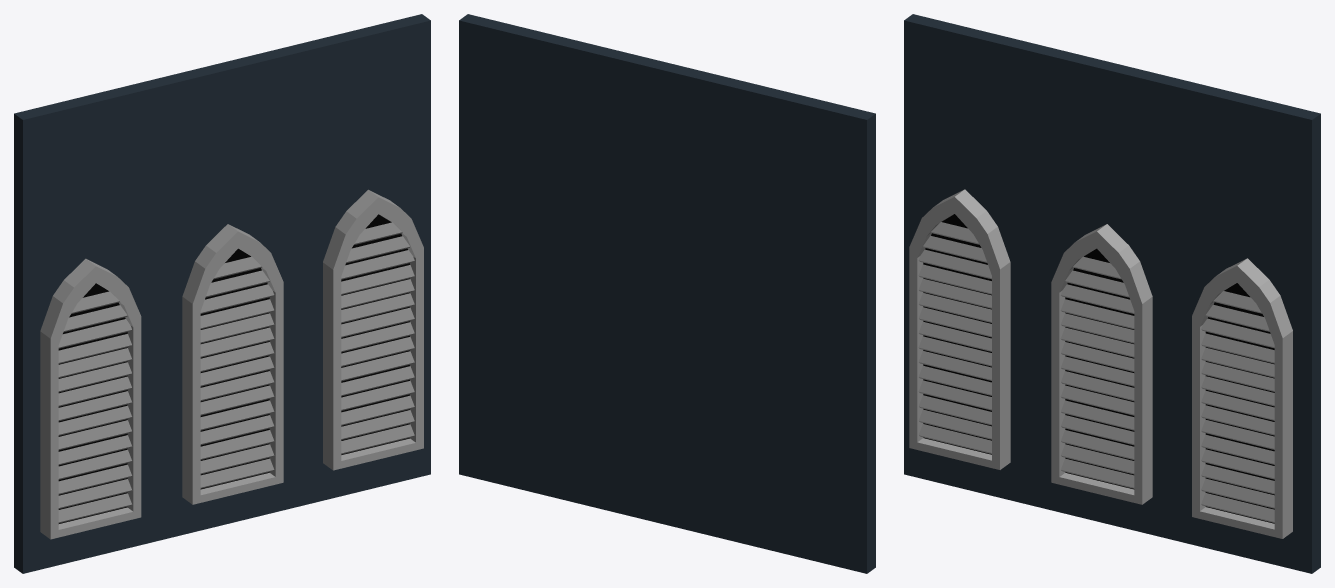
The model's file is front_tower_window_wall.glb.
3 renders of one model, left to right at view 1: azimuth 30°, elevation 25°; view 2: azimuth 150°, elevation 25°; view 3: azimuth 330°, elevation 25°, orthographic.
Visible parts, largest first — view 1: Cube.064, Cube.002, Cube.019, Cube.036, Cube.001, Cube.018, Cube.035, Cube.020, Cube.025, Cube.023, Cube.027, Cube.029 (+40 smaller); view 2: Cube.064; view 3: Cube.064, Cube.019, Cube.002, Cube.036, Cube.035, Cube.018, Cube.001, Cube.020, Cube.023, Cube.025, Cube.027, Cube.029 (+40 smaller).
Boxes of the visible parts, bbox=[...] form: Cube.064: bbox=[14, 14, 430, 573]; Cube.002: bbox=[40, 258, 141, 539]; Cube.019: bbox=[182, 224, 283, 504]; Cube.036: bbox=[323, 189, 423, 470]; Cube.001: bbox=[58, 283, 127, 523]; Cube.018: bbox=[200, 248, 269, 489]; Cube.035: bbox=[341, 214, 409, 454]; Cube.020: bbox=[200, 371, 274, 401]; Cube.025: bbox=[200, 415, 274, 445]; Cube.023: bbox=[200, 385, 274, 415]; Cube.027: bbox=[200, 444, 274, 474]; Cube.029: bbox=[200, 313, 274, 343]; Cube.064: bbox=[459, 14, 875, 573]; Cube.064: bbox=[904, 14, 1320, 573]; Cube.019: bbox=[1051, 224, 1152, 504]; Cube.002: bbox=[909, 189, 1010, 469]; Cube.036: bbox=[1192, 258, 1292, 538]; Cube.035: bbox=[1205, 283, 1274, 523]; Cube.018: bbox=[1065, 248, 1134, 489]; Cube.001: bbox=[923, 214, 991, 454]; Cube.020: bbox=[1061, 371, 1134, 401]; Cube.023: bbox=[1060, 385, 1134, 415]; Cube.025: bbox=[1061, 415, 1134, 445]; Cube.027: bbox=[1060, 444, 1134, 474]; Cube.029: bbox=[1060, 313, 1134, 343].
Bounding box in the file's own units: 8.52 × 9.05 × 0.7261.
